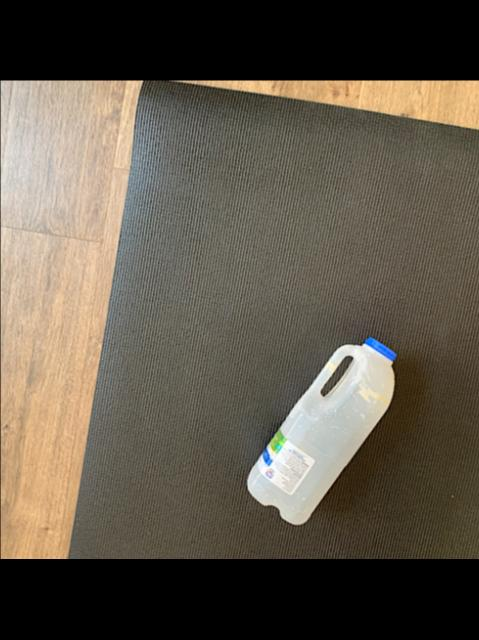plastic: (244, 337, 392, 523)
